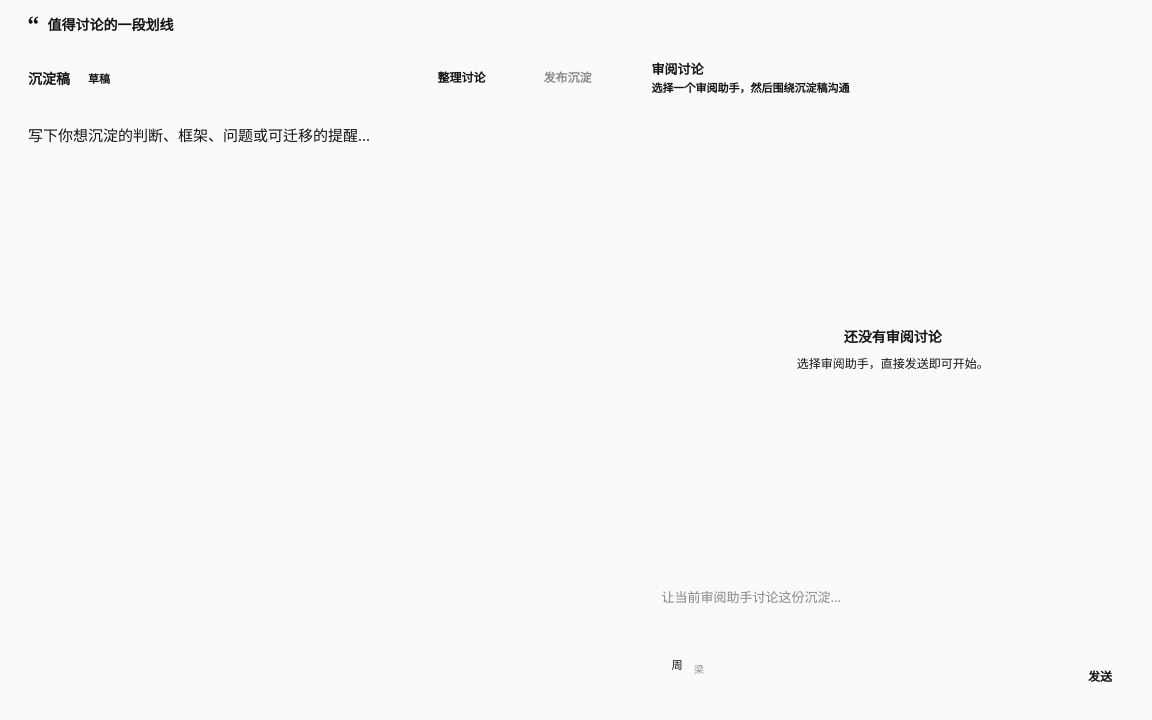
Test case: annotation distillation UI › shows organized discussion failures in the draft area
The image size is (1152, 720).
Click the button "整理讨论". click: (451, 78)
box: [402,58,500,98]
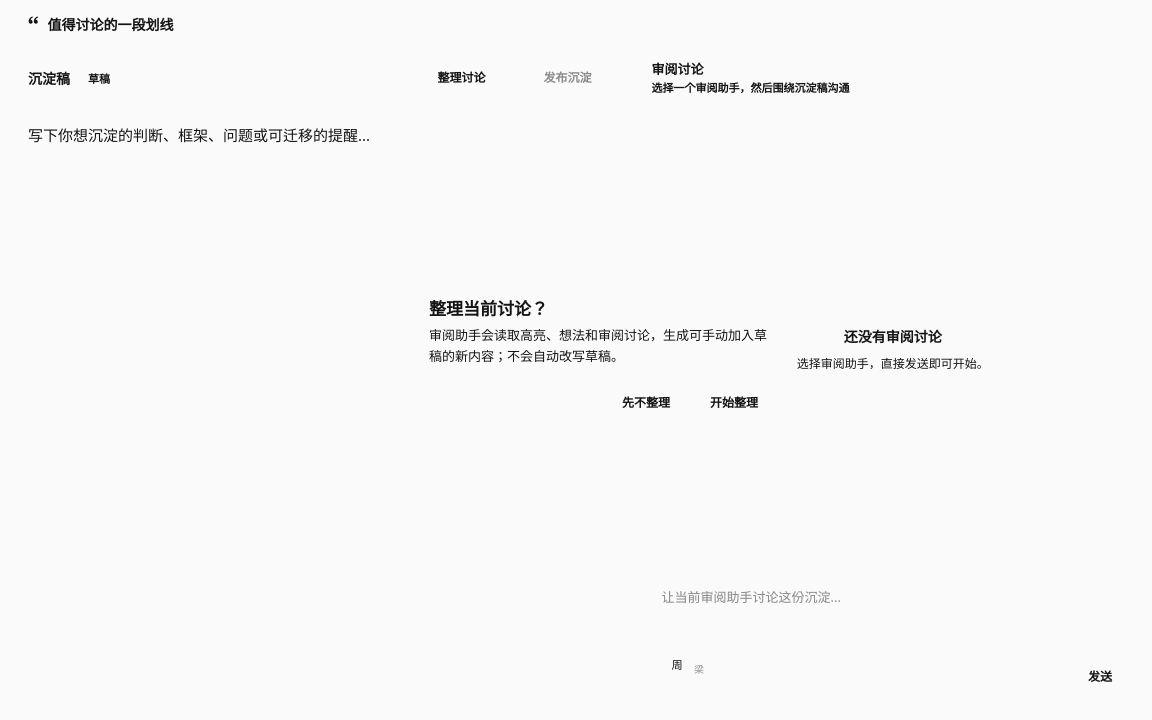
Click the button "开始整理". click: (734, 403)
box: [695,384,773,422]
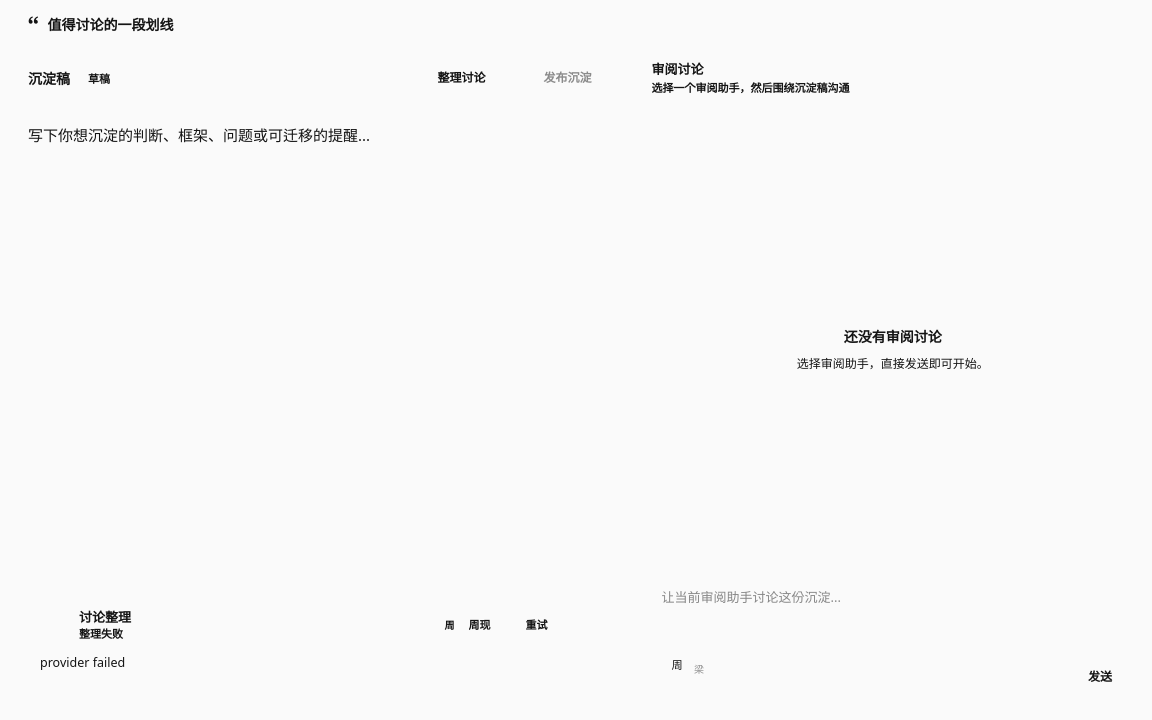
Check: the text "整理失败" is shown, box [79,626,123,641]
Check: the text "provider failed" is shown, box [40,654,125,671]
Check: the button "重试" is shown, box [498,610,557,640]
